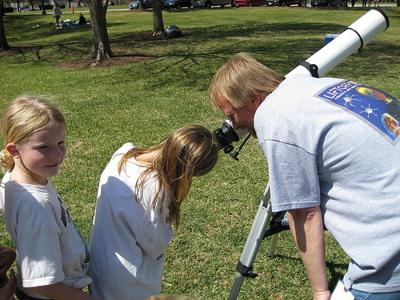person: (86, 122, 218, 300)
